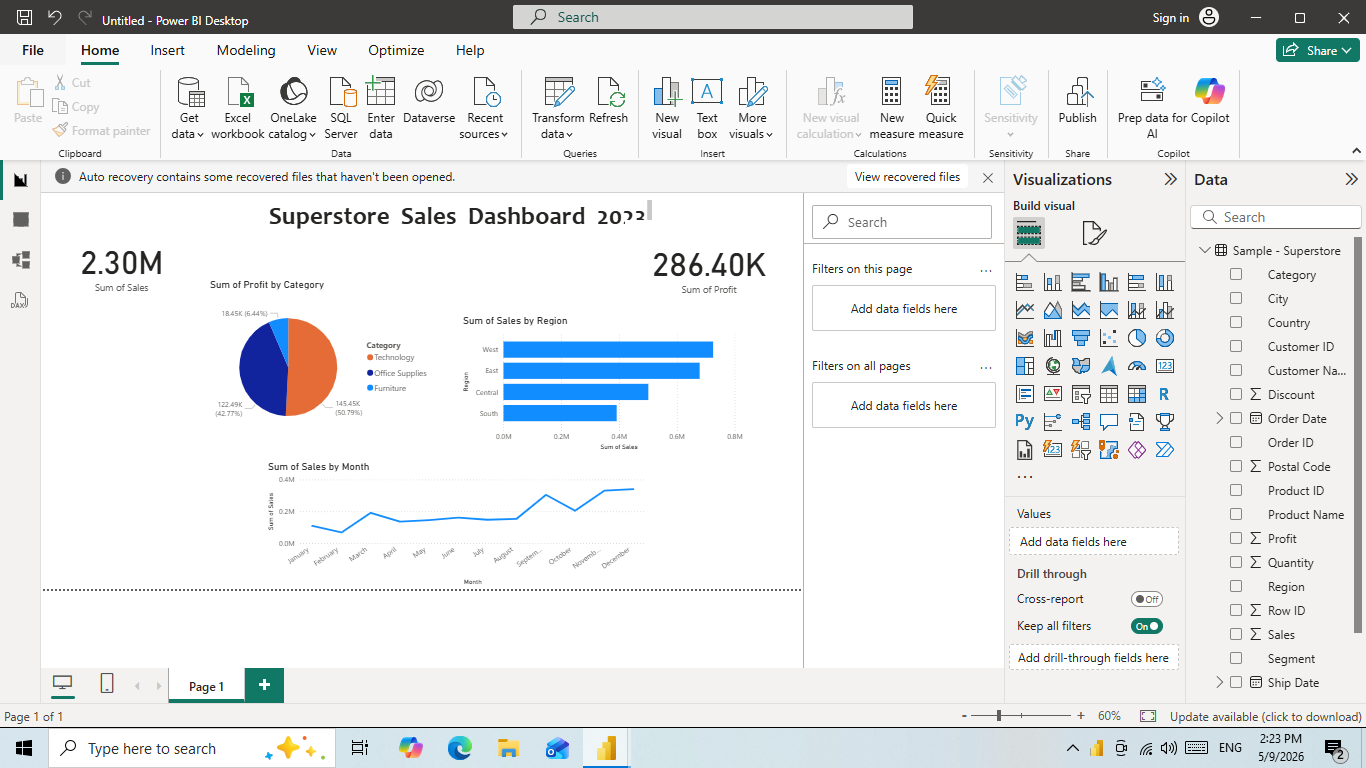

What the dashboard file says about the page in this screenshot:
{"tool":"powerbi","page":{"name":"Page 1","canvas":[1280,720],"ordinal":0},"visuals":[{"type":"textbox","box":[399.8,0,13.4,719],"z":0},{"type":"textbox","box":[10,570,280,150],"z":2},{"type":"textbox","box":[300,570,280,150],"z":5},{"type":"textbox","box":[590,570,280,150],"z":9},{"type":"textbox","box":[100,100,300,300],"z":14},{"type":"textbox","box":[100,100,300,300],"z":15},{"type":"textbox","box":[100,100,300,300],"z":16},{"type":"textbox","box":[100,100,300,300],"z":17},{"type":"textbox","box":[100,100,300,300],"z":18},{"type":"textbox","box":[100,100,300,300],"z":22},{"type":"textbox","box":[100,100,300,300],"z":23},{"type":"textbox","box":[100,100,300,300],"z":24},{"type":"textbox","box":[100,100,300,300],"z":25},{"type":"textbox","box":[100,100,300,300],"z":26},{"type":"textbox","box":[100,100,300,300],"z":27},{"type":"textbox","box":[100,100,300,300],"z":28},{"type":"textbox","box":[100,100,300,300],"z":29},{"type":"textbox","box":[100,100,300,300],"z":30},{"type":"textbox","box":[100,100,300,300],"z":31},{"type":"textbox","box":[100,100,300,300],"z":32},{"type":"textbox","box":[100,100,300,300],"z":33},{"type":"textbox","box":[100,100,300,300],"z":34},{"type":"textbox","box":[590,290,280,280],"z":36},{"type":"textbox","box":[375.8,61.9,655.2,57.6],"z":37},{"type":"textbox","box":[1087,0,193,280],"z":38},{"type":"card","fields":{"Values":["Sum(Sample - Superstore.Sales)"]},"box":[10.1,100.8,250.3,151.2],"z":40},{"type":"card","fields":{"Values":["Sum(Sample - Superstore.Profit)"]},"box":[981,100.8,282.2,157.9],"z":41},{"type":"clusteredBarChart","fields":{"Category":["Sample - Superstore.Region"],"Y":["Sum(Sample - Superstore.Sales)"]},"box":[703.8,258.7,480.4,233.5],"z":42},{"type":"pieChart","fields":{"Category":["Sample - Superstore.Category"],"Y":["Sum(Sample - Superstore.Profit)"]},"box":[278.8,198.2,383,280.5],"z":43},{"type":"lineChart","fields":{"Category":["Sample - Superstore.Ship Date.Variation.Date Hierarchy.Month"],"Y":["Sum(Sample - Superstore.Sales)"]},"box":[376.3,503.9,643.4,215],"z":44}]}

Visuals, with their boxes on the page's 1280x720 design canvas (x1, y1, x2, y2). These are canvas units, not pixel positions in the 1366x768 screenshot, which may show the page scaled, cropped or inside an application window:
textbox: left=400, top=0, right=413, bottom=719
textbox: left=10, top=570, right=290, bottom=720
textbox: left=300, top=570, right=580, bottom=720
textbox: left=590, top=570, right=870, bottom=720
textbox: left=100, top=100, right=400, bottom=400
textbox: left=100, top=100, right=400, bottom=400
textbox: left=100, top=100, right=400, bottom=400
textbox: left=100, top=100, right=400, bottom=400
textbox: left=100, top=100, right=400, bottom=400
textbox: left=100, top=100, right=400, bottom=400
textbox: left=100, top=100, right=400, bottom=400
textbox: left=100, top=100, right=400, bottom=400
textbox: left=100, top=100, right=400, bottom=400
textbox: left=100, top=100, right=400, bottom=400
textbox: left=100, top=100, right=400, bottom=400
textbox: left=100, top=100, right=400, bottom=400
textbox: left=100, top=100, right=400, bottom=400
textbox: left=100, top=100, right=400, bottom=400
textbox: left=100, top=100, right=400, bottom=400
textbox: left=100, top=100, right=400, bottom=400
textbox: left=100, top=100, right=400, bottom=400
textbox: left=100, top=100, right=400, bottom=400
textbox: left=590, top=290, right=870, bottom=570
textbox: left=376, top=62, right=1031, bottom=120
textbox: left=1087, top=0, right=1280, bottom=280
card - Sum(Sample - Superstore.Sales): left=10, top=101, right=260, bottom=252
card - Sum(Sample - Superstore.Profit): left=981, top=101, right=1263, bottom=259
clusteredBarChart - Sample - Superstore.Region x Sum(Sample - Superstore.Sales): left=704, top=259, right=1184, bottom=492
pieChart - Sample - Superstore.Category x Sum(Sample - Superstore.Profit): left=279, top=198, right=662, bottom=479
lineChart - Sample - Superstore.Ship Date.Variation.Date Hierarchy.Month x Sum(Sample - Superstore.Sales): left=376, top=504, right=1020, bottom=719
